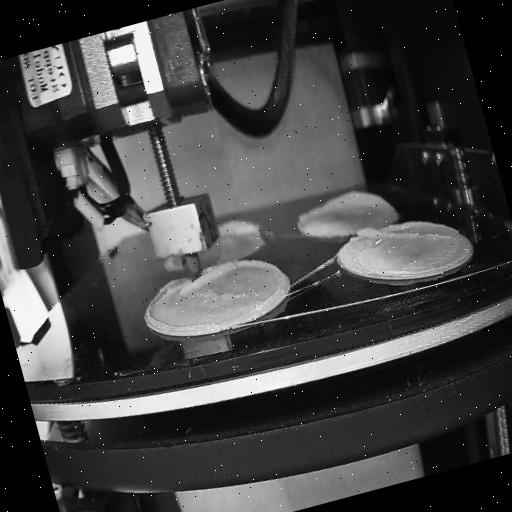over_extrusion: (155, 248, 278, 302), (292, 178, 396, 238), (355, 206, 454, 266), (216, 210, 266, 248)
